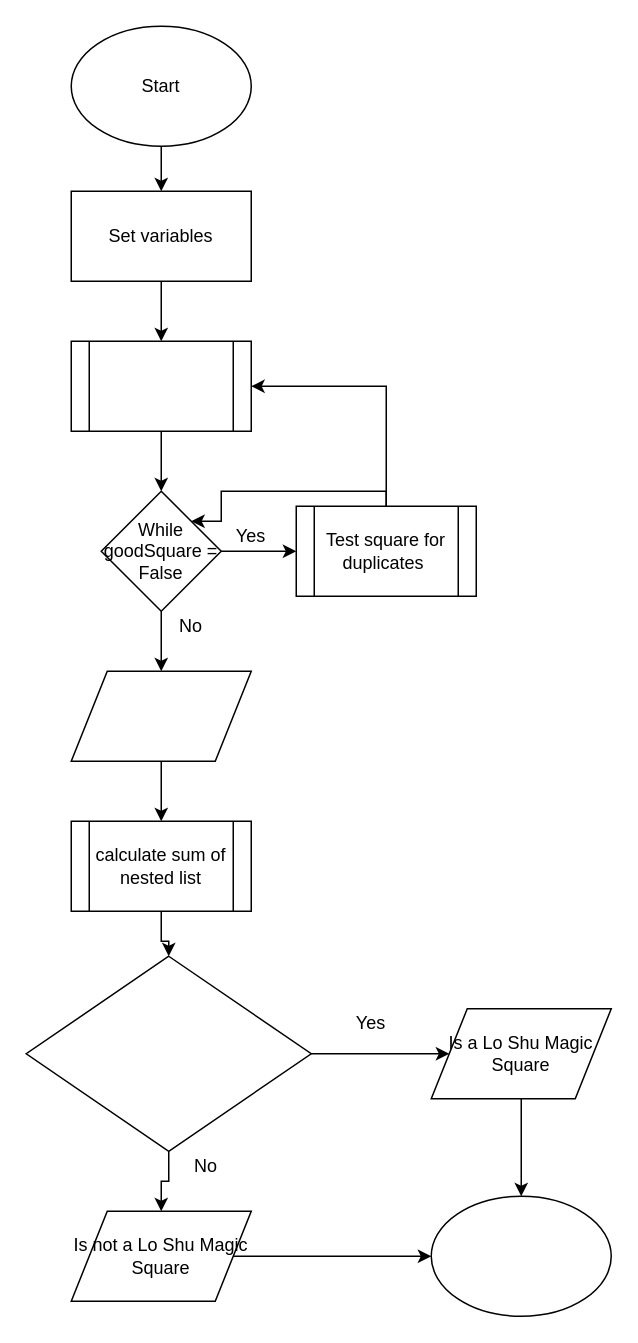
Some shapes in this 638 by 1343 pixel diagram are drawn without their labels. Here are the shapes that lost their labels. From the top down, the box of each, then its label:
(70, 340, 251, 431): Get user input
(70, 670, 251, 761): Output nested list
(25, 955, 311, 1151): Compare all combinations of summed rows/columns/diagonals
(430, 1195, 611, 1316): End
